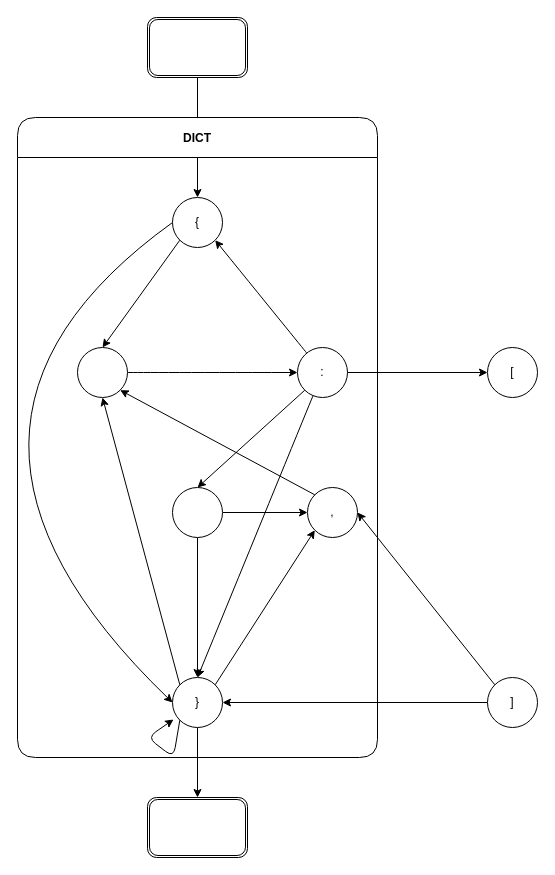
The diagram is 555 pixels wide and 875 high, and some of its shapes have lost their labels. The shapes that lost their labels are listed below. From the top down, each one's centre as x and y in pixels, then its label:
At point 197,47: "START".
At point 102,372: "KEY".
At point 197,512: "VALUE".
At point 197,827: "END".
